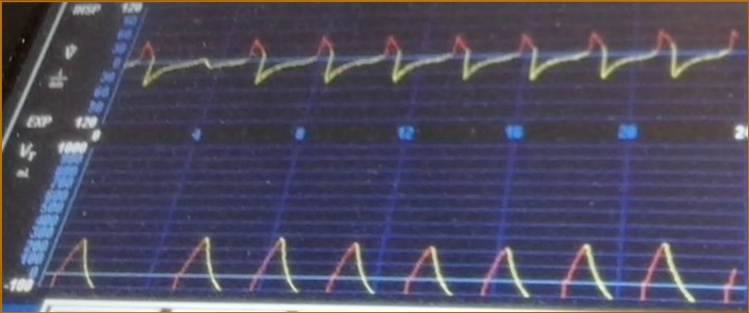Ineffective_effort Flow: (127, 23, 740, 105)
Ineffective_effort Volume: (50, 228, 739, 303)
